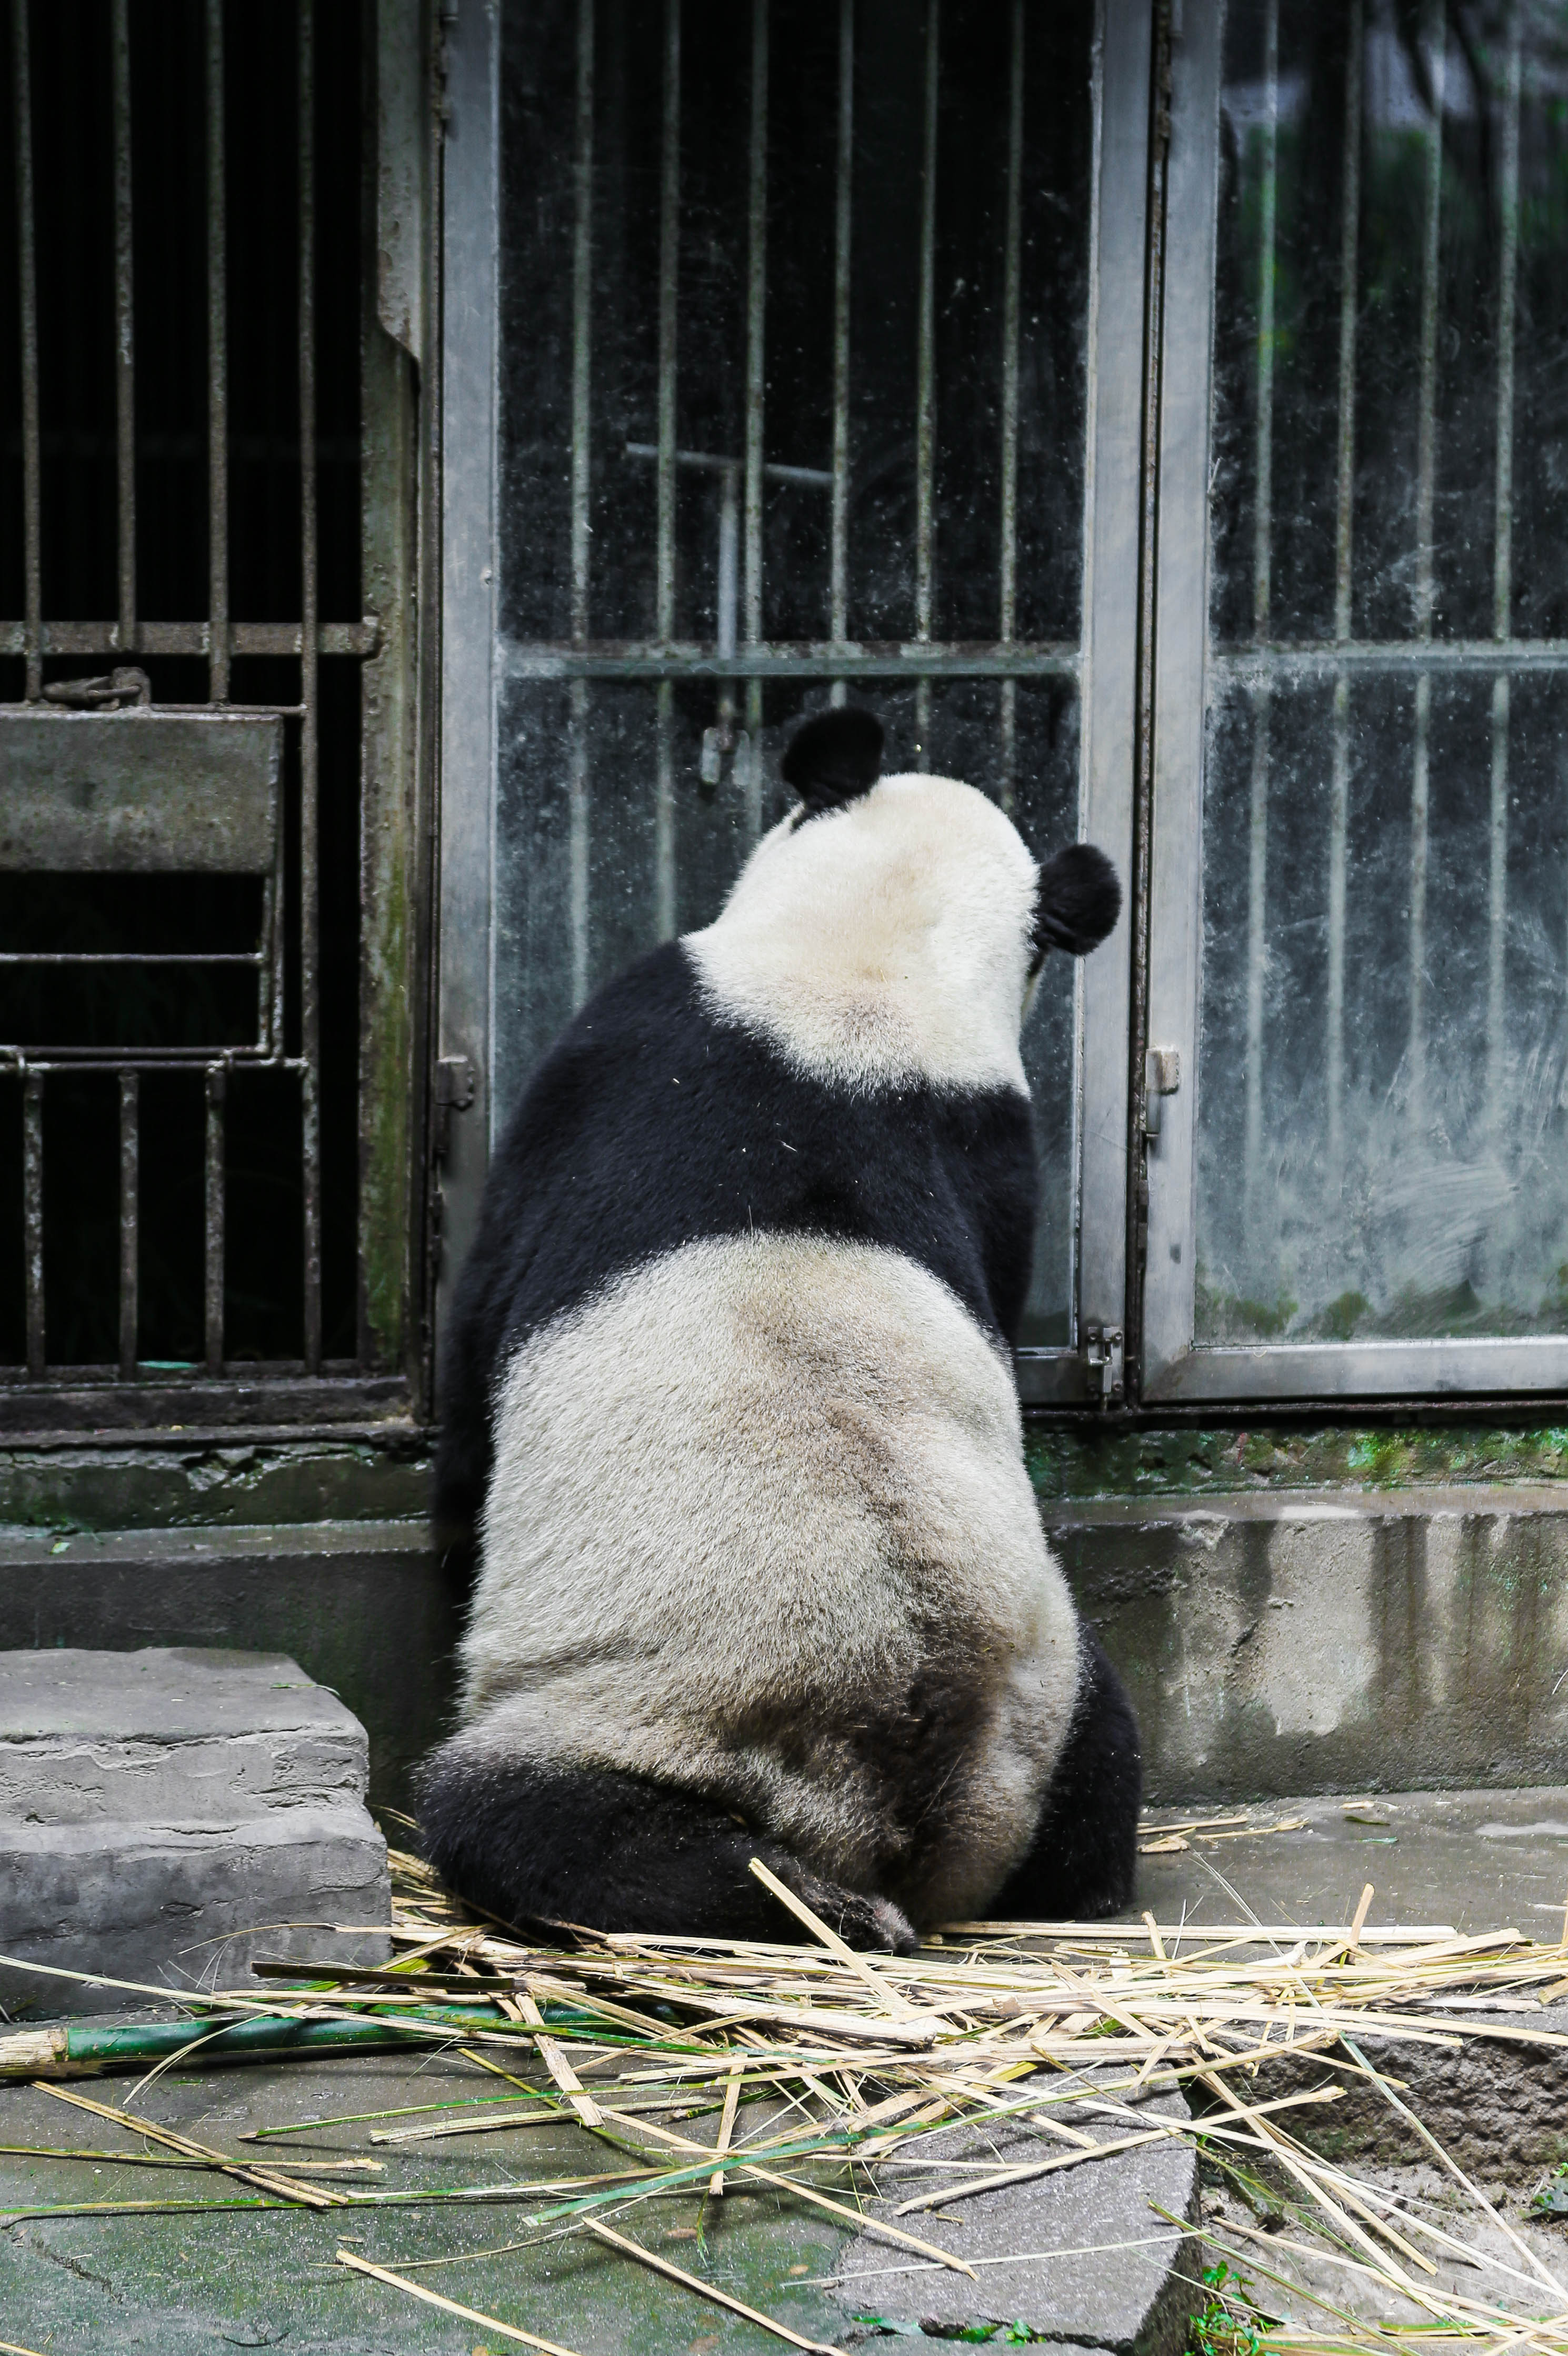panda: (408, 638, 1281, 1973)
